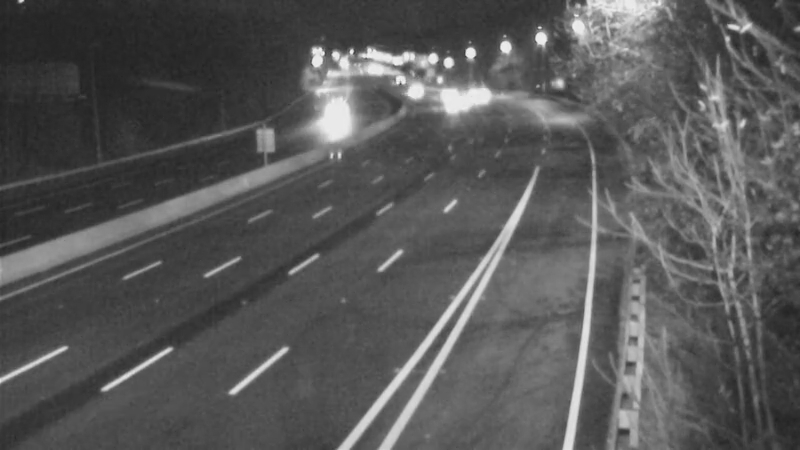vehicle: (373, 52, 423, 102), (387, 62, 437, 112), (420, 70, 470, 120), (453, 71, 503, 121), (425, 80, 475, 130), (310, 90, 360, 140)
